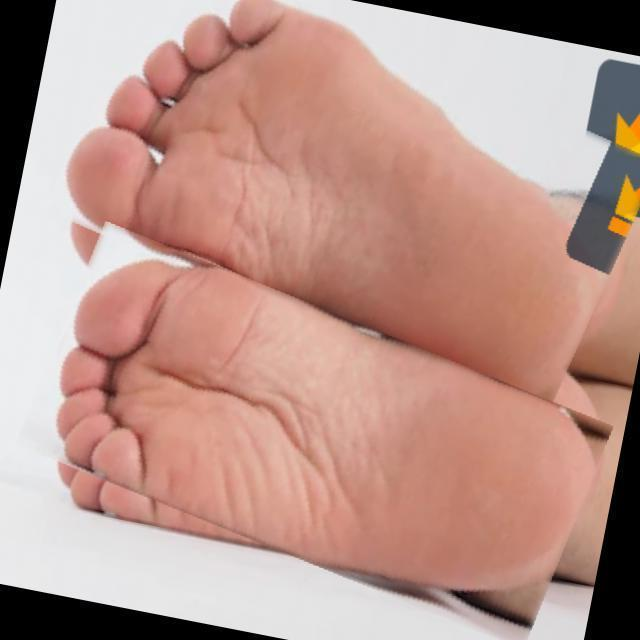No_Shoes: (53, 280, 600, 574), (60, 0, 611, 283)
